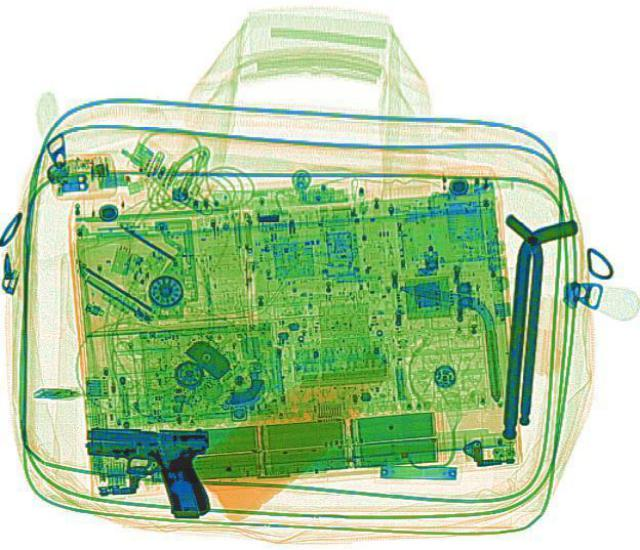Gun: (76, 422, 212, 516)
